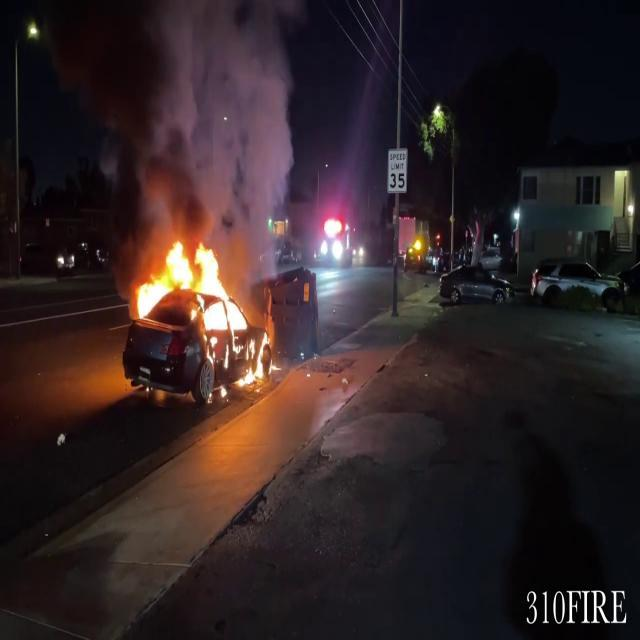Fire: (130, 232, 270, 388)
Smoke: (120, 0, 300, 235)
